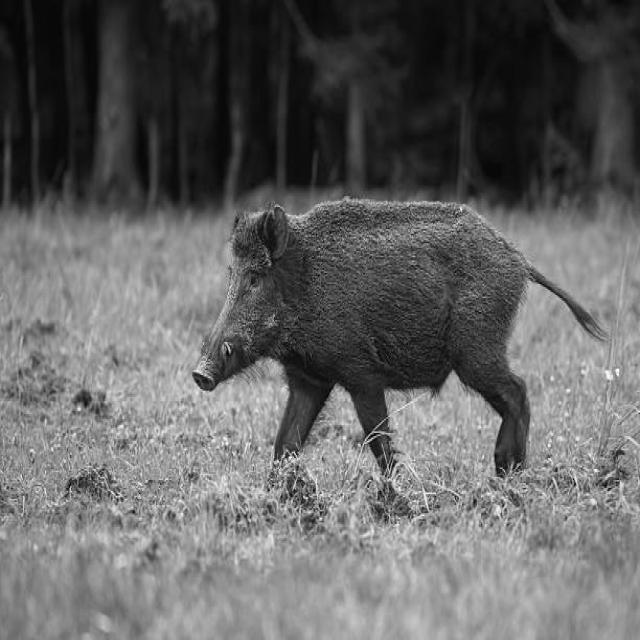boar: (192, 198, 602, 469)
